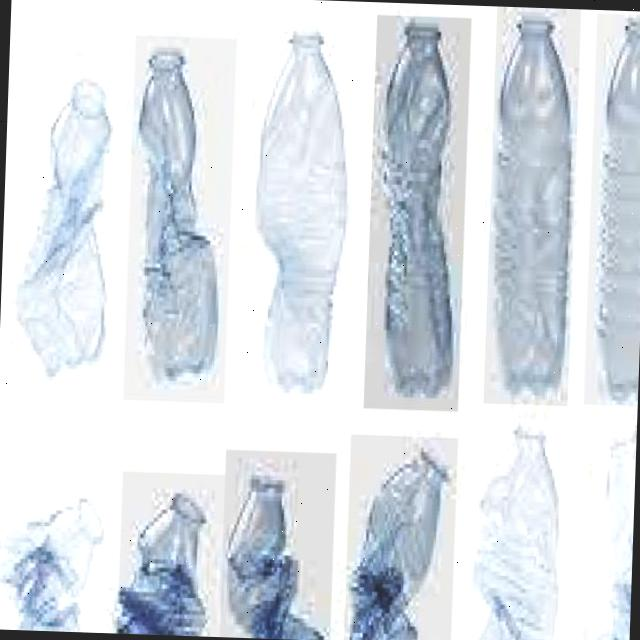trash: (244, 19, 356, 404), (363, 14, 471, 411), (122, 35, 236, 403), (11, 55, 127, 403), (482, 7, 580, 408), (457, 417, 573, 640), (343, 433, 457, 640), (218, 448, 335, 640), (583, 13, 640, 406), (116, 471, 226, 637), (0, 470, 110, 633), (587, 426, 636, 640)
